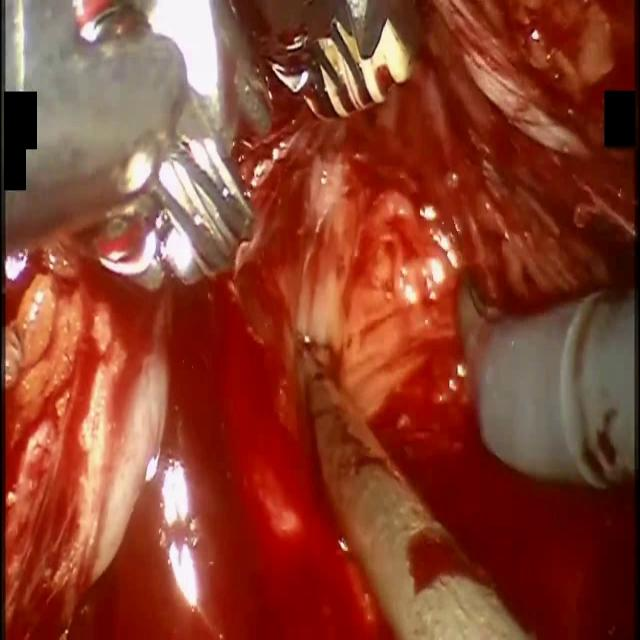surgical-area: (2, 0, 640, 639)
surgical-tool: (290, 322, 536, 639), (2, 0, 259, 286), (456, 271, 640, 486)
